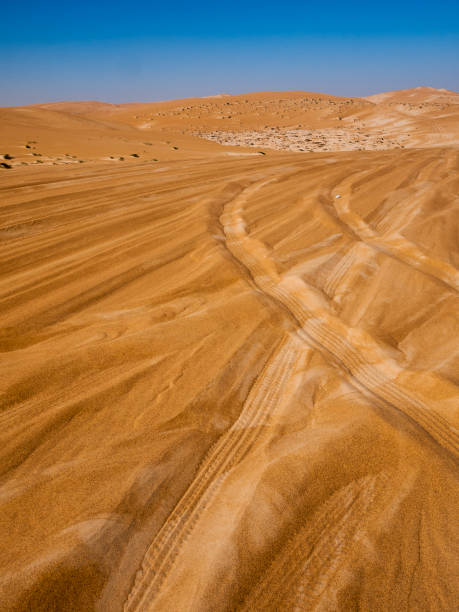vehicle_track: (221, 178, 458, 455), (124, 333, 303, 611), (239, 472, 386, 611), (332, 178, 458, 290), (324, 241, 373, 302)
